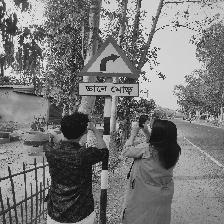Right-turn: (76, 38, 141, 96)
